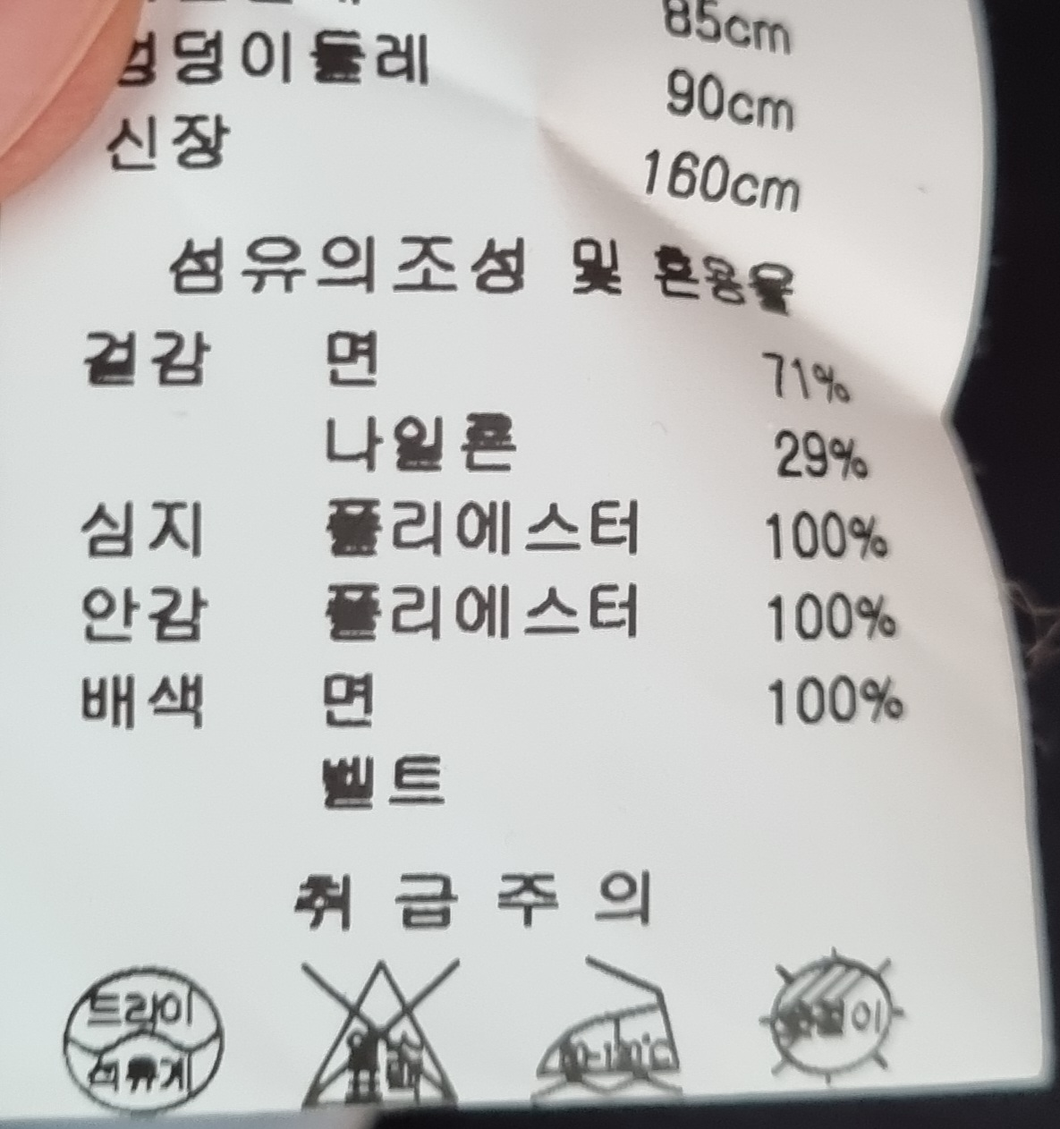KR_dry_clean_petroleum: (54, 959, 232, 1121)
KR_hang_dry_in_shade: (759, 924, 917, 1085)
KR_iron_low_temp_with_cloth: (517, 929, 699, 1105)
KR_no_chlorine_bleach: (284, 946, 472, 1116)
